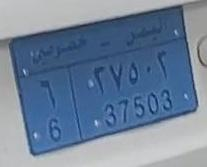city: (18, 68, 80, 156)
number: (70, 38, 197, 142)
text: (13, 8, 186, 78)
